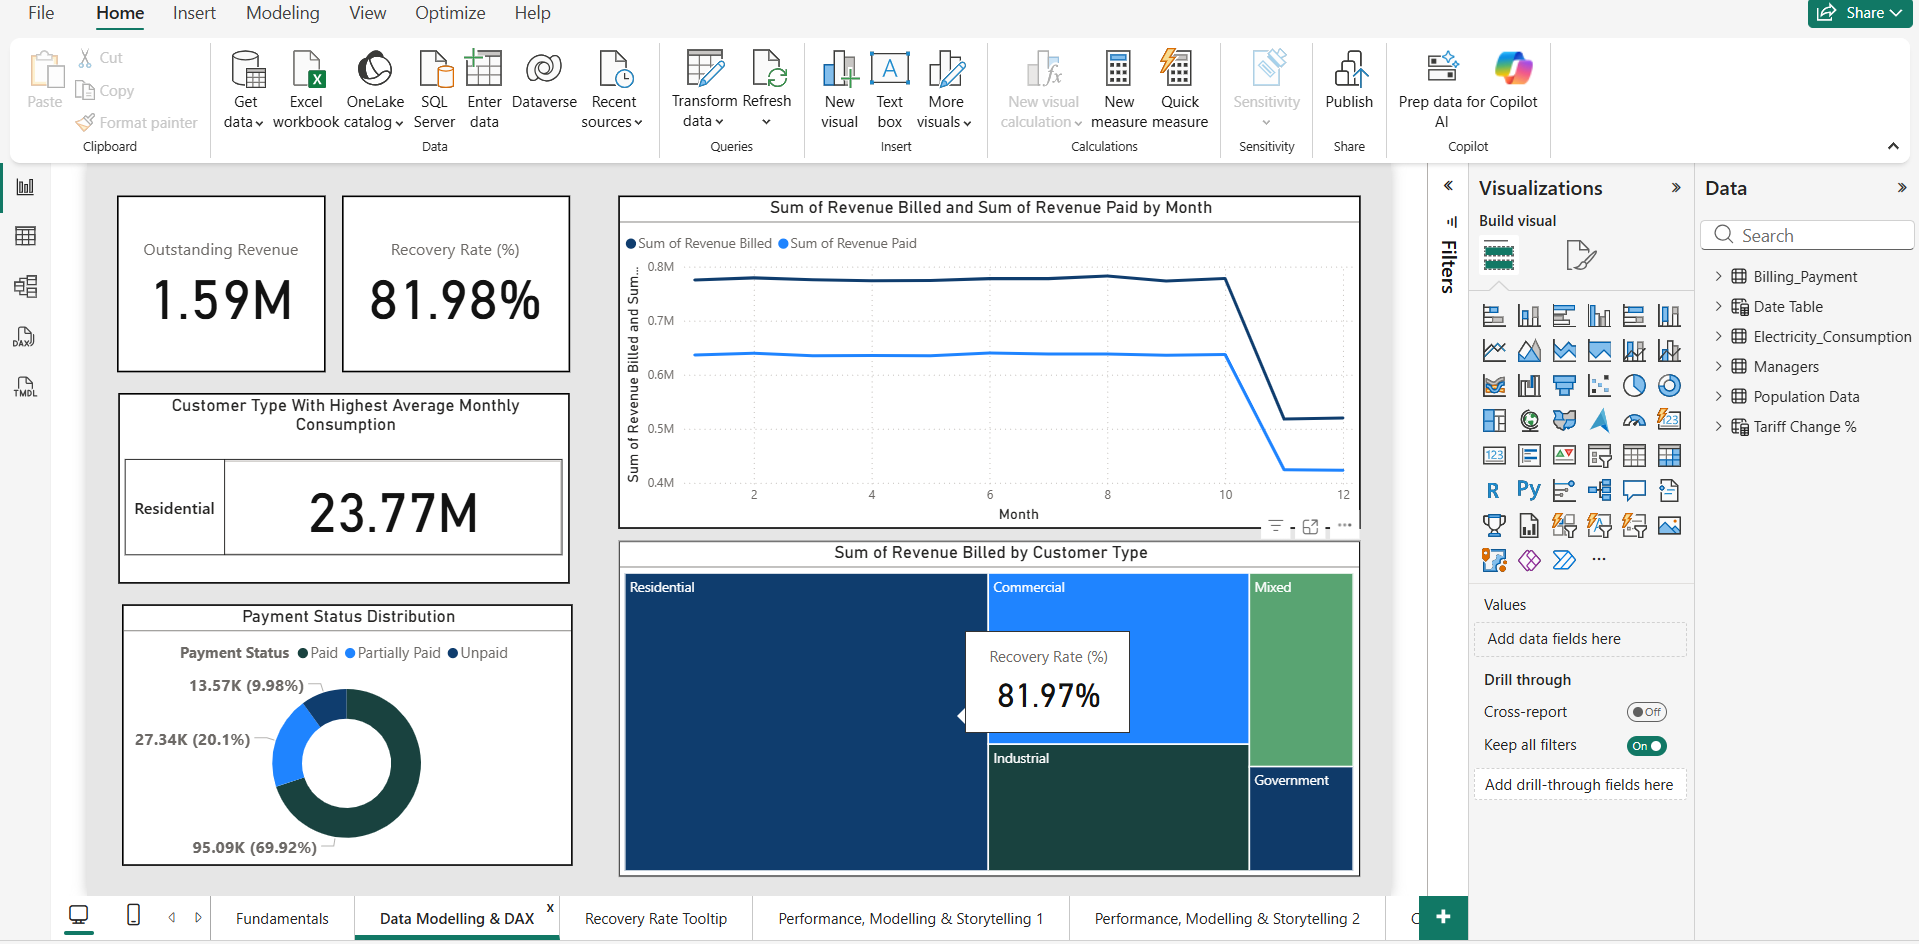

What the dashboard file says about the page in this screenshot:
{"tool":"powerbi","page":{"name":"Data Modelling & DAX","canvas":[1280,720],"ordinal":1},"visuals":[{"type":"cardVisual","fields":{"Data":["Electricity_Consumption.Outstanding Revenue"]},"box":[30,32.5,205,173.8],"z":0},{"type":"cardVisual","fields":{"Data":["Billing_Payment.Recovery Rate (%)"]},"box":[250,32.5,223.8,173.8],"z":1000},{"type":"lineChart","fields":{"Y":["Sum(Billing_Payment.Revenue_Billed)","Sum(Billing_Payment.Revenue_Paid)"],"Category":["Billing_Payment.Month"]},"box":[521.7,31.9,729,327.5],"z":2000},{"type":"treemap","fields":{"Group":["Electricity_Consumption.CustomerType"],"Values":["Sum(Billing_Payment.Revenue_Billed)"]},"box":[521.7,371,729,330.4],"z":3000},{"type":"cardVisual","title":"Customer Type With Highest Average Monthly Consumption","fields":{"Rows":["Electricity_Consumption.Customer Type"],"Data":["Electricity_Consumption.Average Consumption per Month"]},"box":[30.4,226.1,443.5,187],"z":4000},{"type":"donutChart","title":"Payment Status Distribution","fields":{"Category":["Billing_Payment.Payment_Status"],"Y":["CountNonNull(Billing_Payment.Payment_Status)"]},"box":[34.8,433.3,442,256.5],"z":5000}]}

Visuals, with their boxes on the page's 1280x720 design canvas (x1, y1, x2, y2). These are canvas units, not pixel positions in the 1919x944 screenshot, which may show the page scaled, cropped or inside an application window:
cardVisual - Electricity_Consumption.Outstanding Revenue: 30, 32, 235, 206
cardVisual - Billing_Payment.Recovery Rate (%): 250, 32, 474, 206
lineChart - Sum(Billing_Payment.Revenue_Billed) x Sum(Billing_Payment.Revenue_Paid): 522, 32, 1251, 359
treemap - Electricity_Consumption.CustomerType x Sum(Billing_Payment.Revenue_Billed): 522, 371, 1251, 701
"Customer Type With Highest Average Monthly Consumption" cardVisual: 30, 226, 474, 413
"Payment Status Distribution" donutChart: 35, 433, 477, 690
